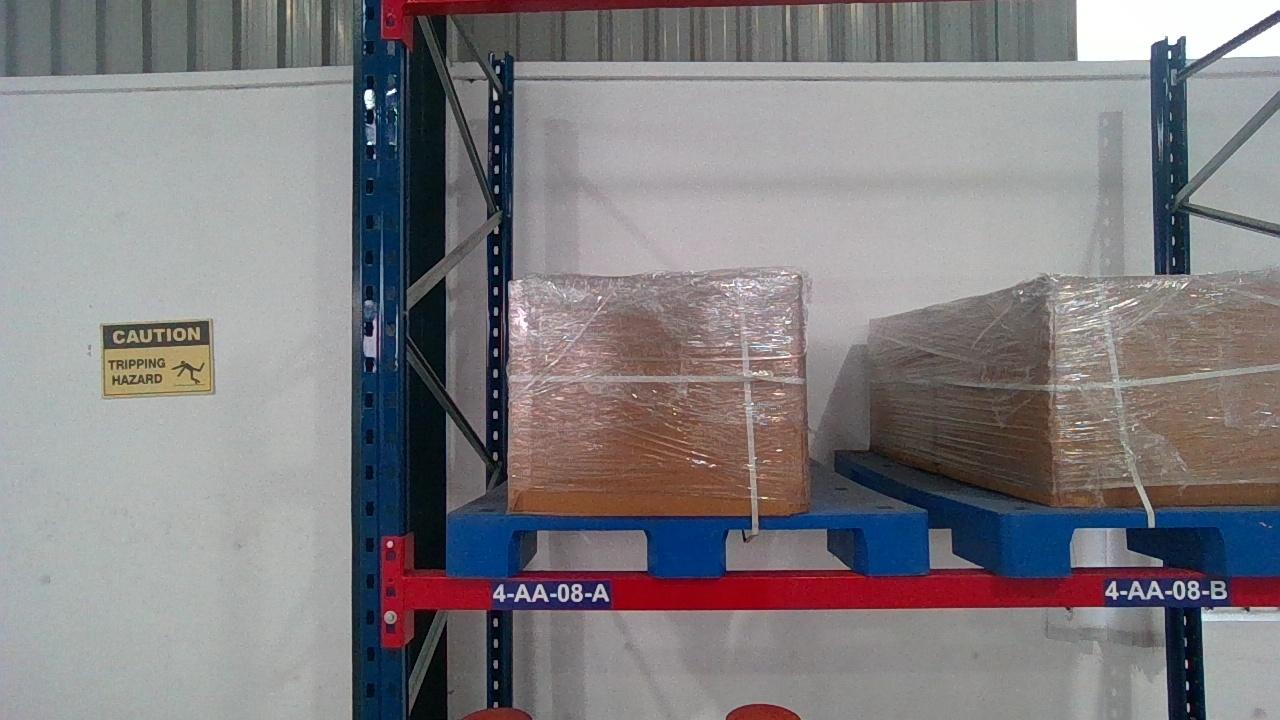h_rack: (405, 572, 1278, 608)
small_pallet: (443, 514, 931, 574), (1005, 511, 1279, 572)
